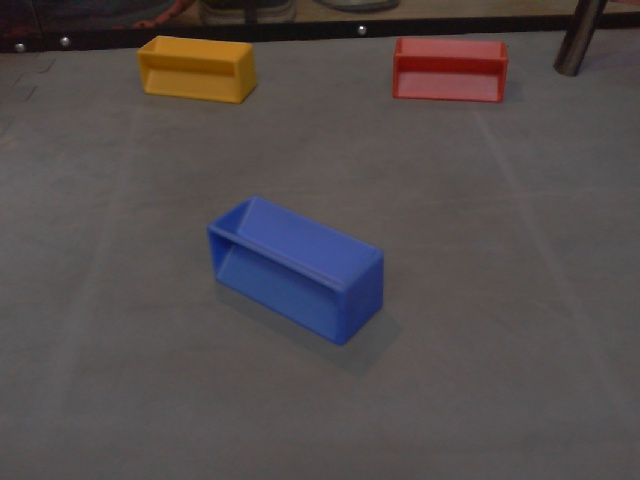BlueSample: (205, 194, 385, 348)
RedSample: (390, 35, 509, 105)
YellowSample: (134, 32, 260, 106)
